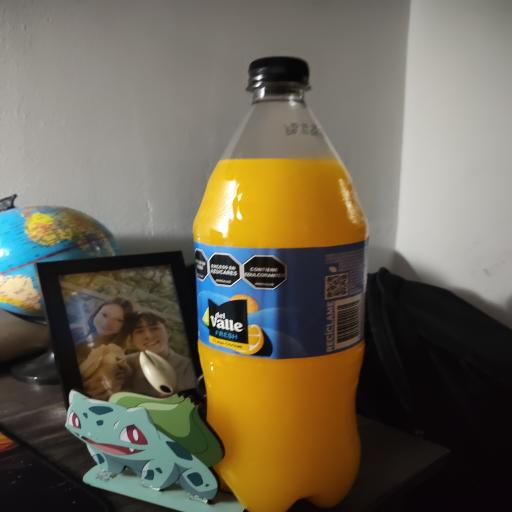Jugo del valle: (194, 57, 367, 511)
